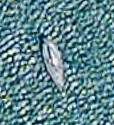ship: (37, 33, 70, 96)
